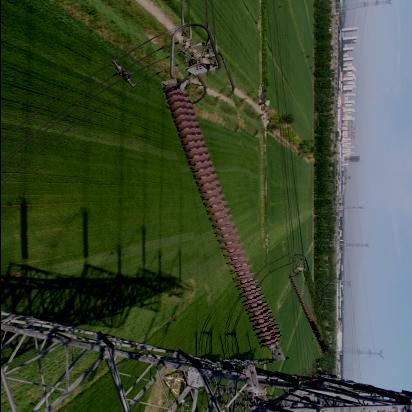insulator: (176, 72, 274, 373), (294, 272, 326, 361)
